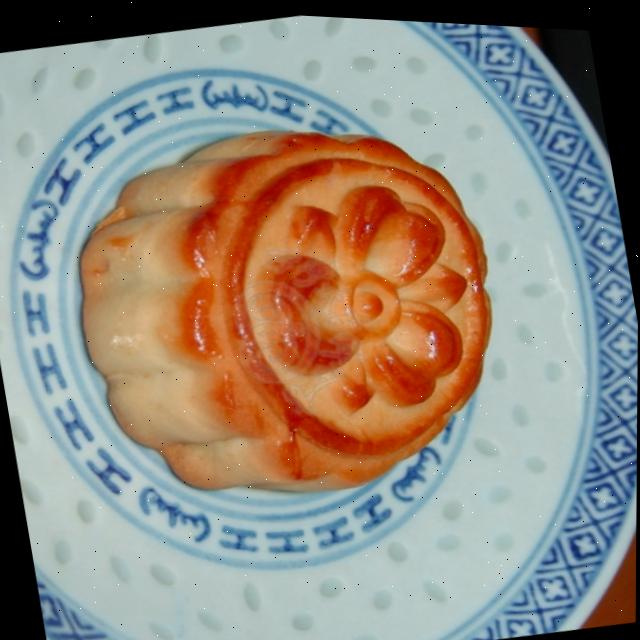蛋糕甜品: (27, 51, 555, 573)
